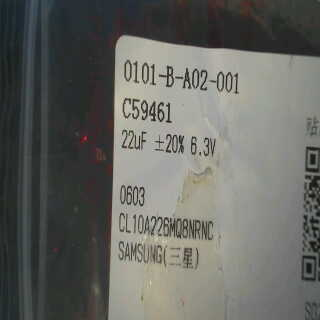22uF: (117, 127, 149, 154)
